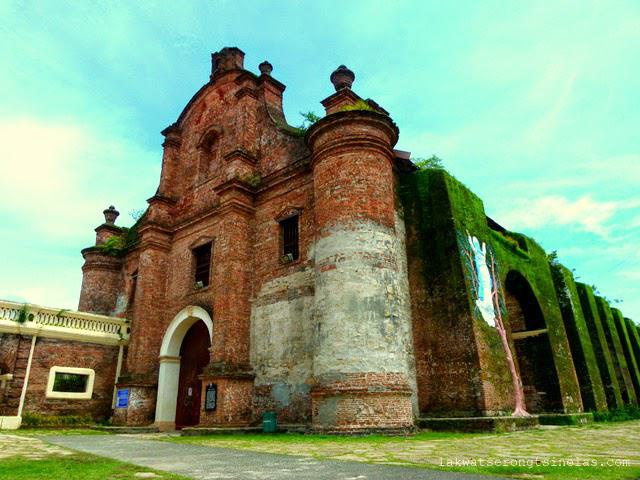santa_maria_church_santa_maria_ilocos_sur: (72, 38, 414, 444)
unfinished_paint: (247, 225, 418, 394)
water_damage_or_mold: (445, 175, 485, 228), (493, 239, 534, 275), (480, 325, 504, 378), (548, 315, 569, 373), (538, 246, 554, 303), (565, 270, 579, 317), (579, 325, 595, 366), (603, 303, 617, 337), (589, 288, 598, 320)
